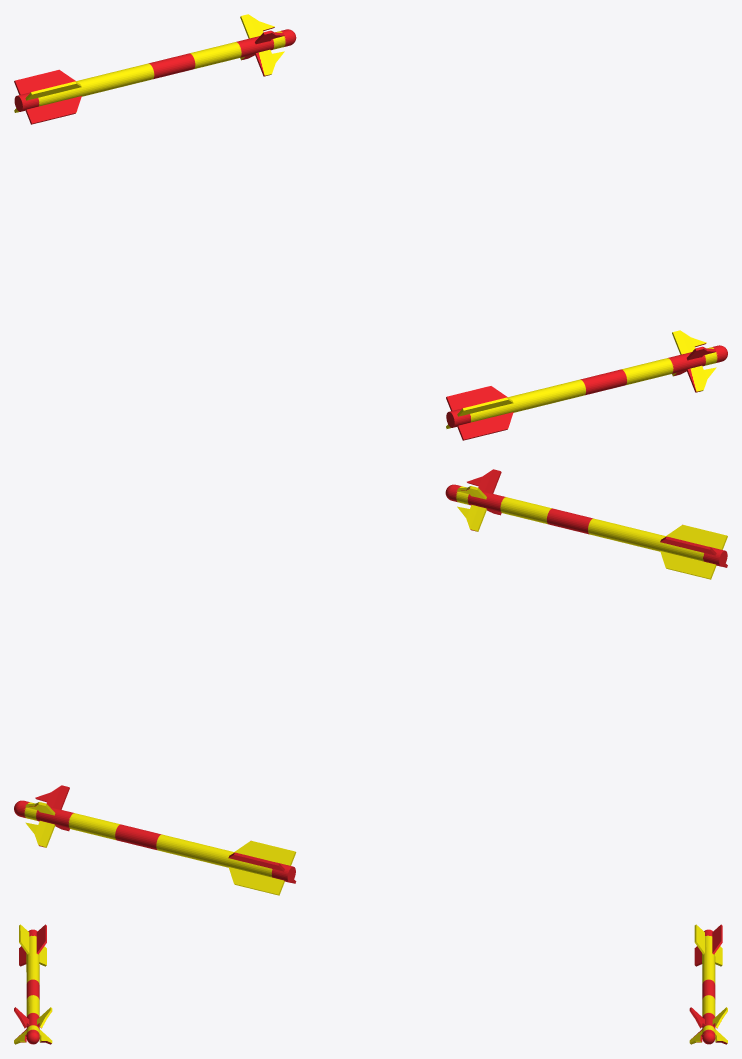
Rendered from aam3tf2a16.glb.
3 renders of one model, top to bottom at view 1: azimuth 30°, elevation 25°; view 2: azimuth 150°, elevation 25°; view 3: azimuth 270°, elevation 25°, orthographic. The views are drawn at different scales.
Parts seen in each view (by area): view 1: 球.012, 球.001; view 2: 球.001, 球.012; view 3: 球.012, 球.001.
Boxes of the visible parts, x1=… form: 球.012: x1=14, y1=14, x2=296, y2=124; 球.001: x1=446, y1=330, x2=727, y2=440; 球.001: x1=445, y1=469, x2=727, y2=579; 球.012: x1=14, y1=785, x2=296, y2=895; 球.012: x1=689, y1=924, x2=727, y2=1044; 球.001: x1=14, y1=924, x2=52, y2=1044.
Bounding box in the file's own units: 4.06 × 0.6236 × 11.59.
Materials: 3 (3 with a texture image).
